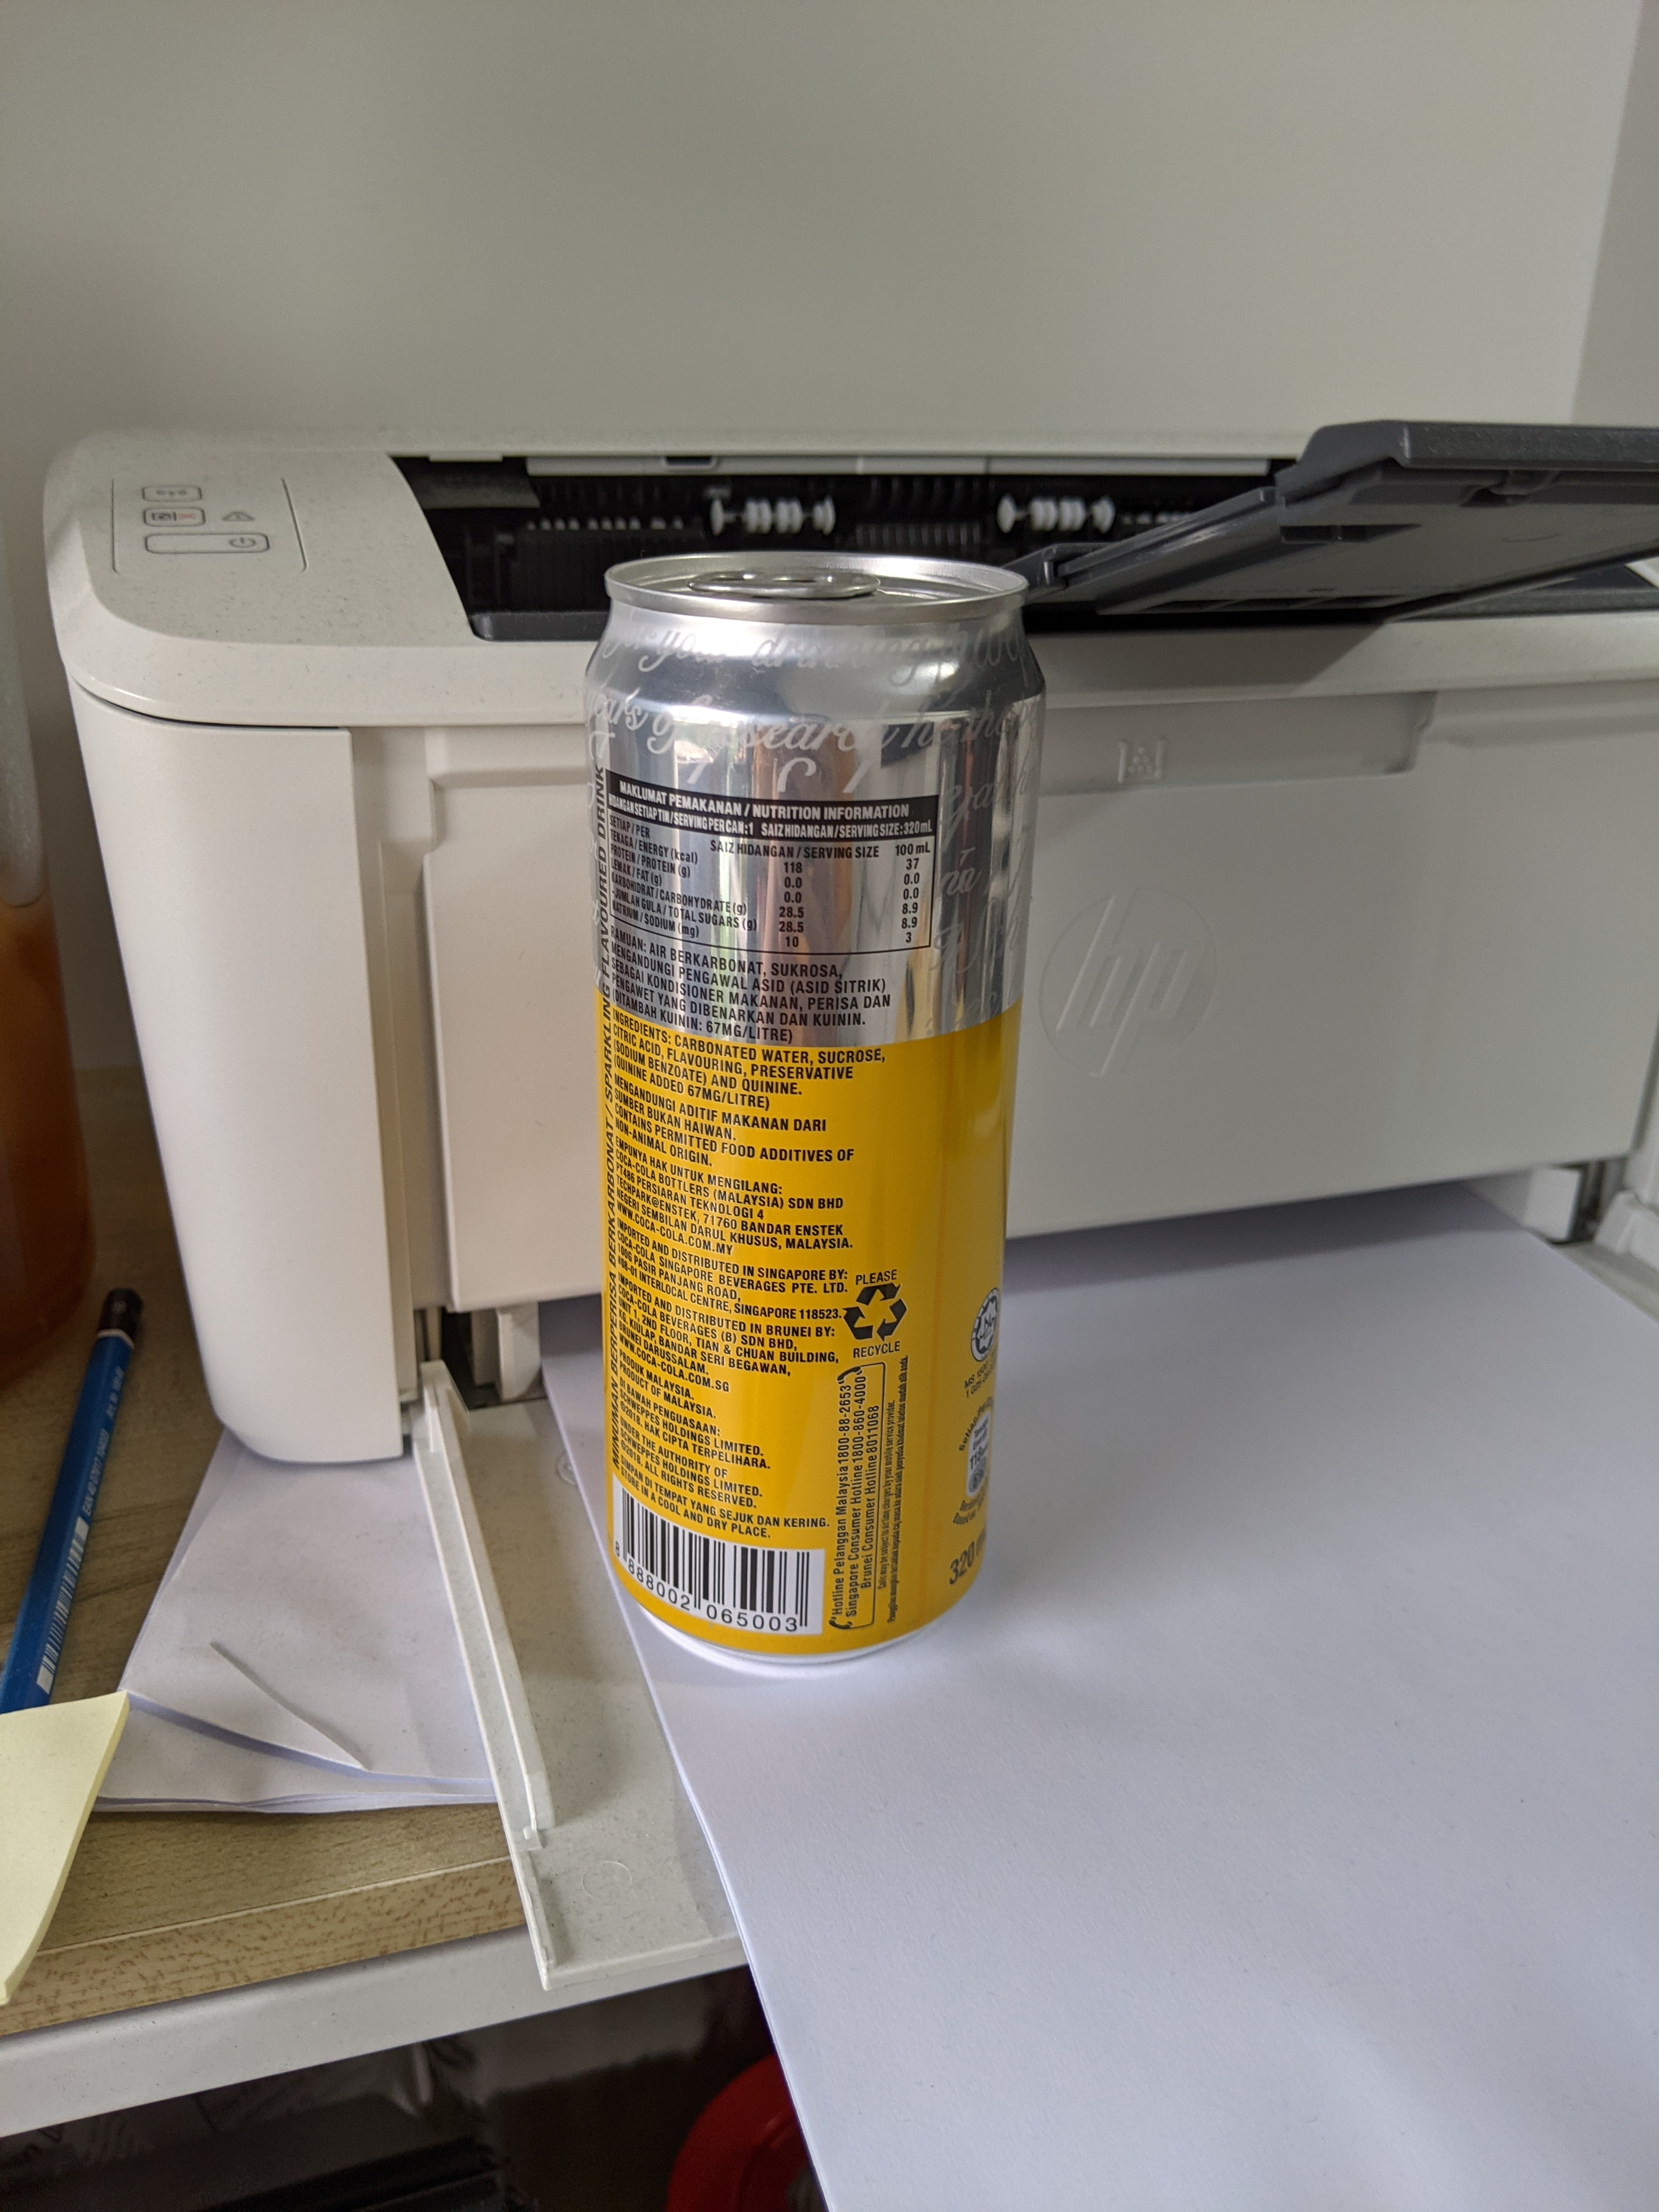schweppes drink can tonic water: (566, 517, 1061, 1702)
